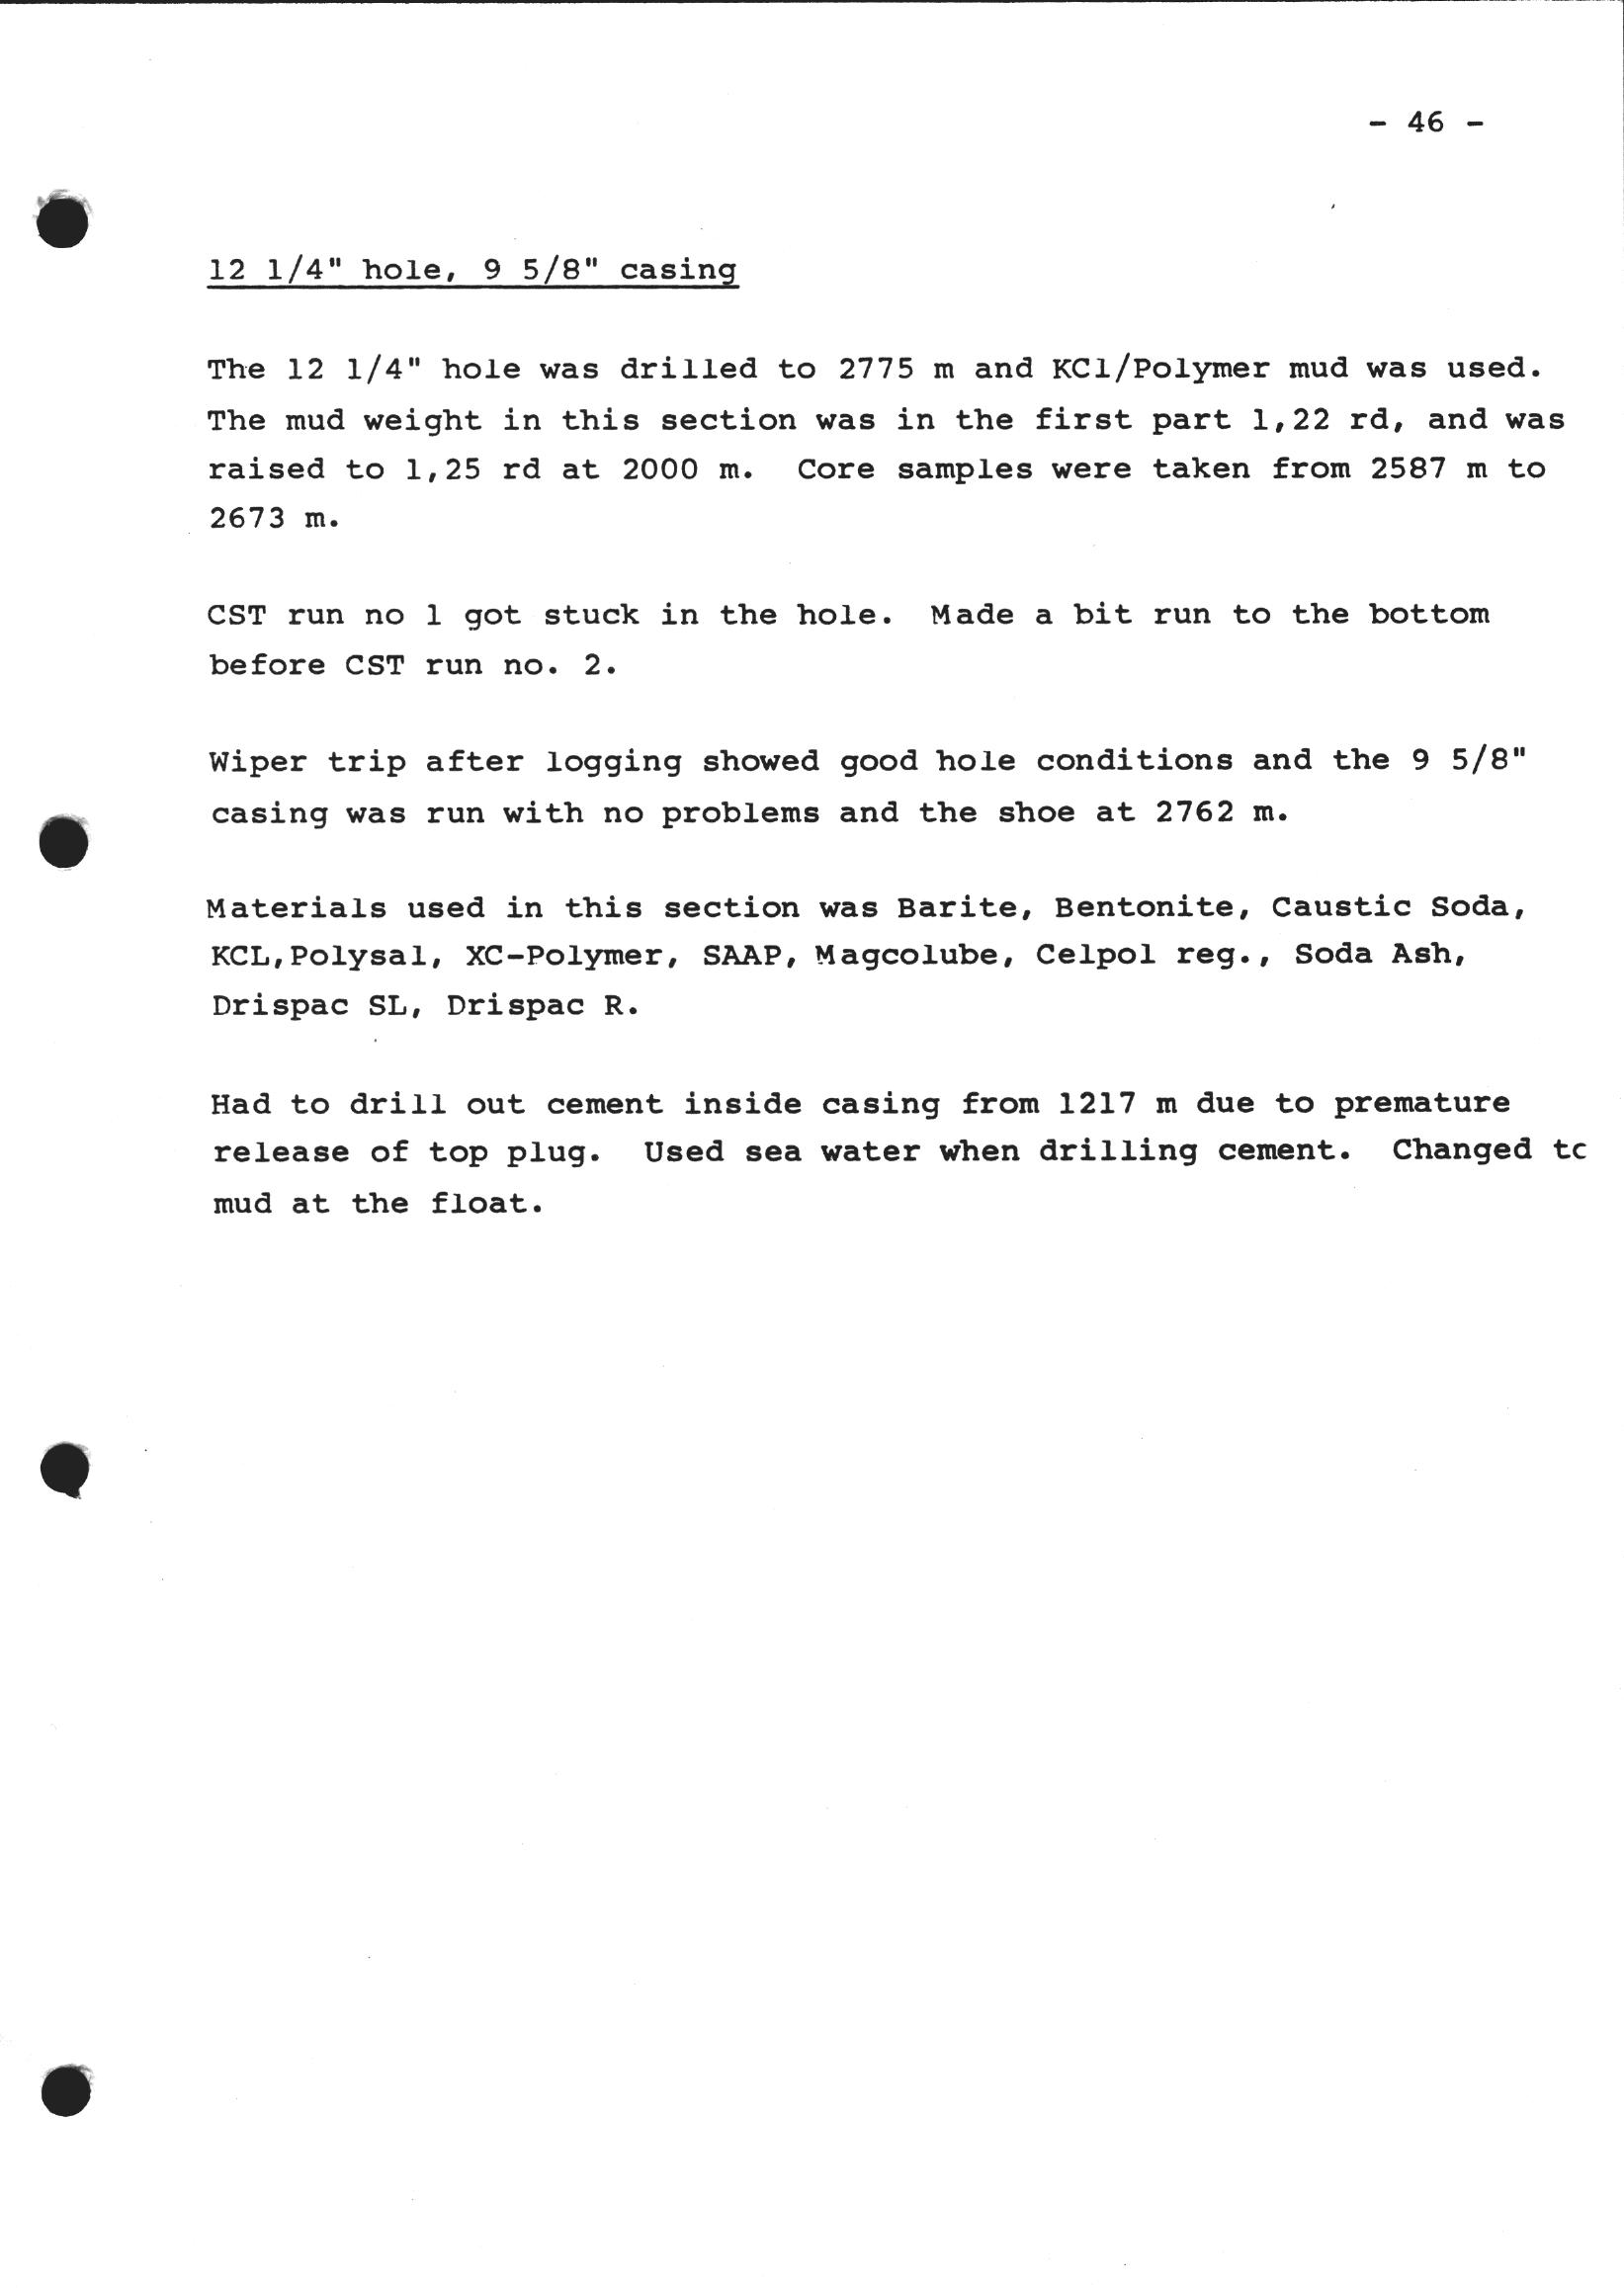text: (172, 227, 1624, 1288)
